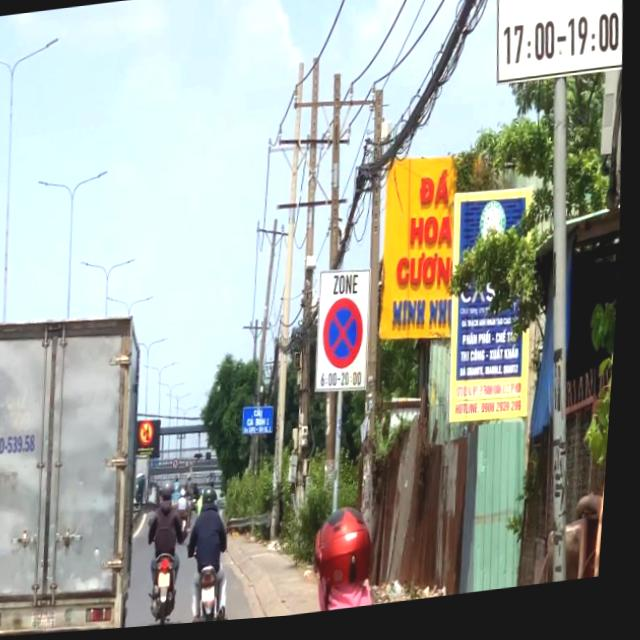Cam dung xe va do xe: (323, 299, 373, 379)
